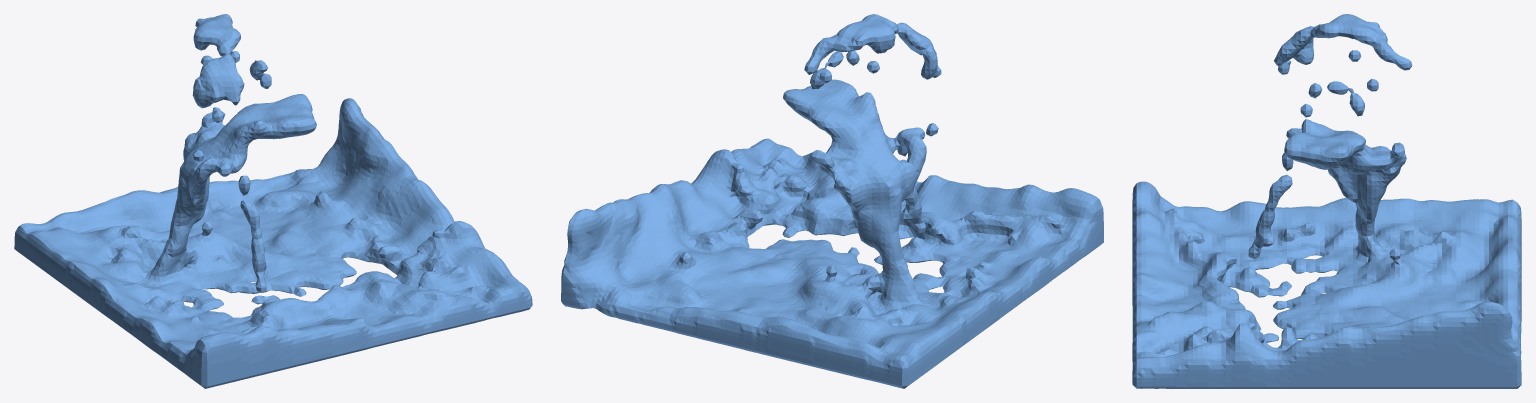
The model's file is water_0098.glb.
3 views of the same model, side by side, from view 1: azimuth 30°, elevation 25°; view 2: azimuth 150°, elevation 25°; view 3: azimuth 270°, elevation 25° (orthographic). The views are drawn at different scales.
Visible parts, largest first — view 1: Water_0098; view 2: Water_0098; view 3: Water_0098.
Part boxes in pixels (box(x1,y1,x2,y2)): Water_0098: box(14, 14, 532, 388); Water_0098: box(561, 14, 1103, 388); Water_0098: box(1132, 14, 1521, 388).
Size of the model in its own units: 4.83 by 3.62 by 4.83.
